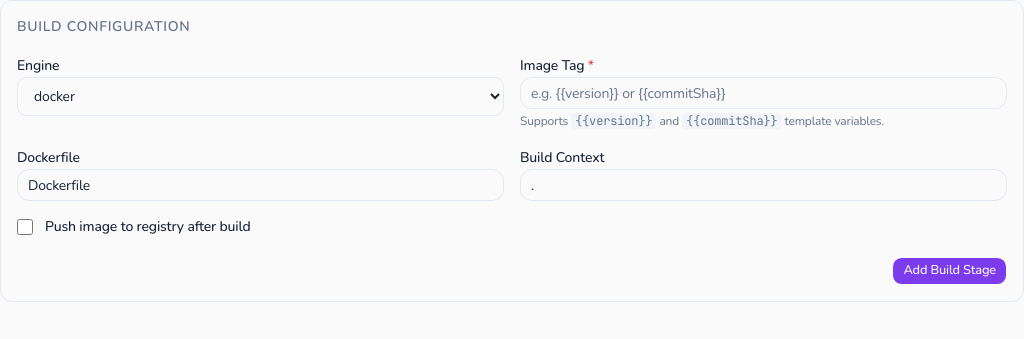
it: BuildStageCard › shows validation error when tag is empty on submit
Click the button "Add Build Stage" at (950, 271), box 892,257 -> 1007,285
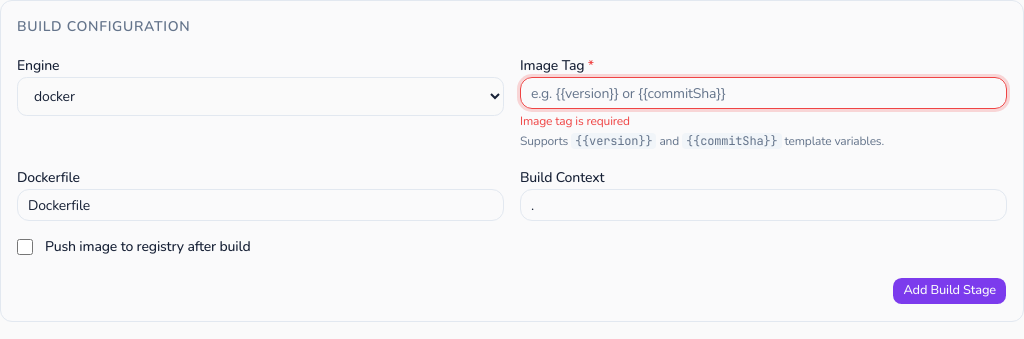
Expected: the text "Image tag is required" is shown, 520,113 -> 630,129
